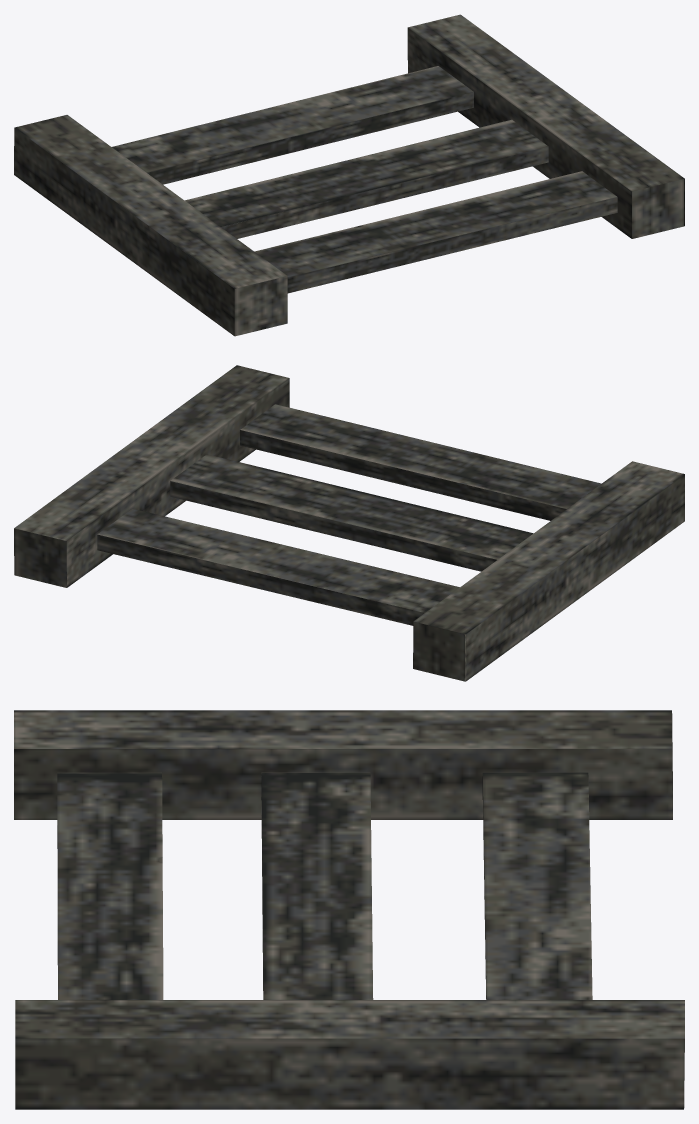
File: SM_EC_Fence_03.fbx
The picture shows the model from 3 angles, top to bottom: view 1: azimuth 30°, elevation 25°; view 2: azimuth 150°, elevation 25°; view 3: azimuth 270°, elevation 25°; orthographic projection. The views are drawn at different scales.
Parts seen in each view (by area): view 1: SM_EC_Fence_03; view 2: SM_EC_Fence_03; view 3: SM_EC_Fence_03.
Boxes of the visible parts, left/top/right/bottom form: SM_EC_Fence_03: left=14, top=14, right=684, bottom=336; SM_EC_Fence_03: left=14, top=365, right=684, bottom=681; SM_EC_Fence_03: left=14, top=710, right=684, bottom=1109.
Size of the model in its own units: 1.99 by 1.71 by 0.2.
